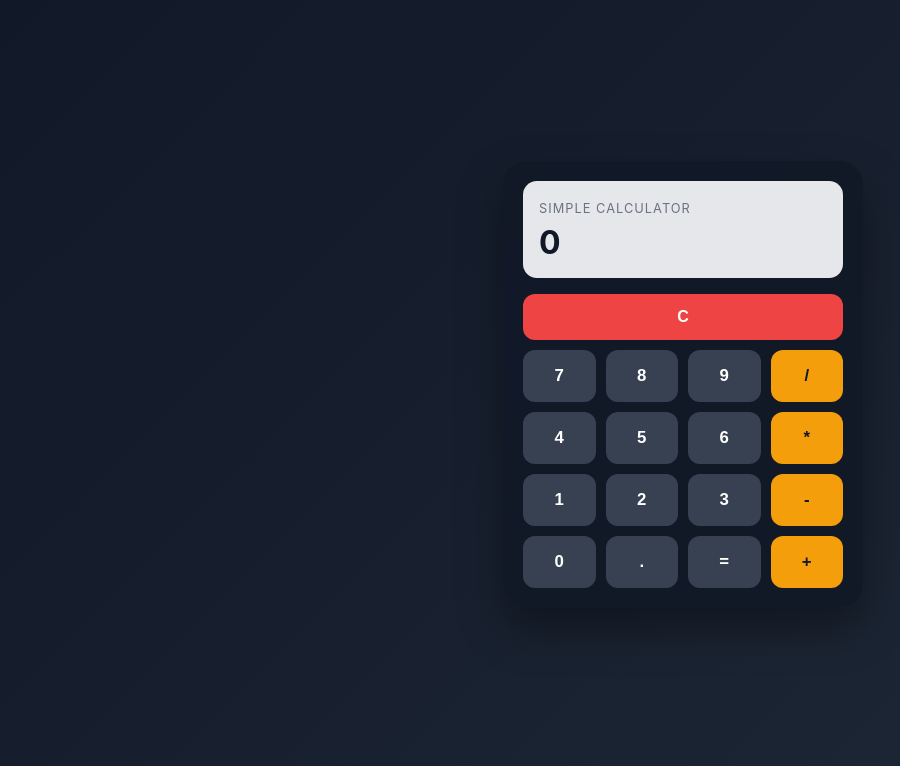
Calculator app › clears the display when C is pressed
Click the button "9".
click(724, 376)  # box top-left (688, 350), bottom-right (760, 402)
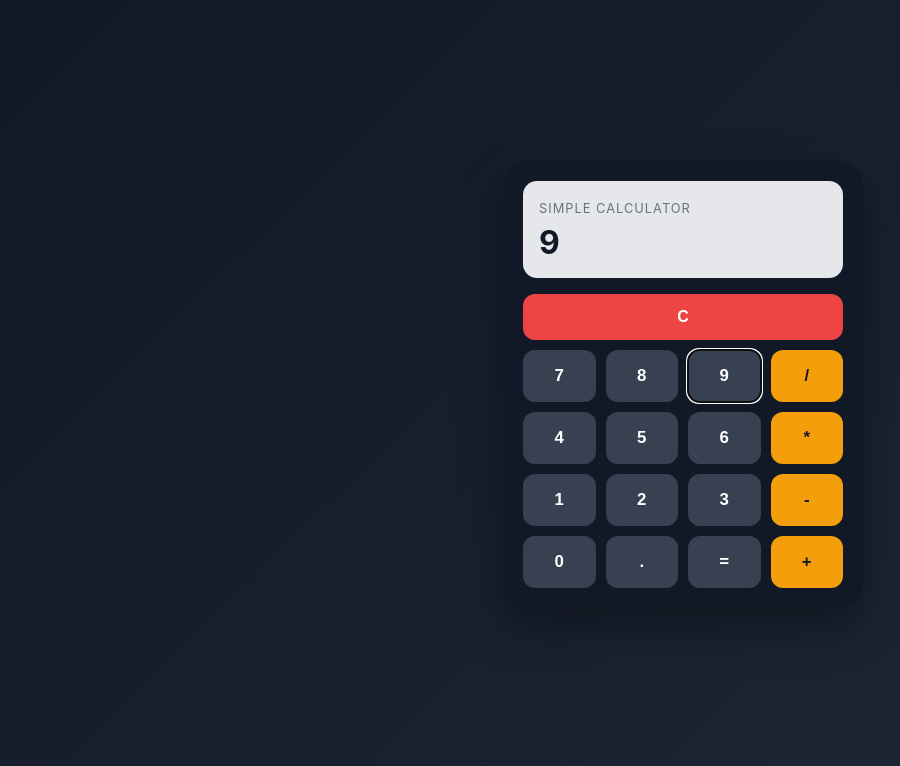
Click the button "C".
click(683, 316)  # box top-left (523, 294), bottom-right (843, 340)
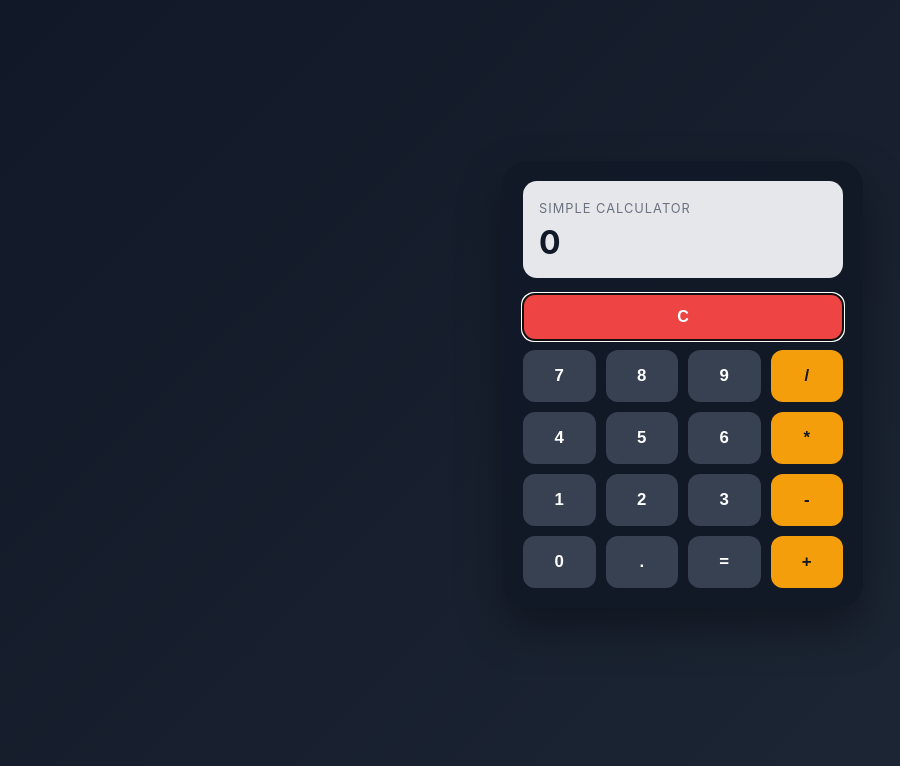
Check: the text "0" is shown, box top-left (539, 222), bottom-right (561, 262)
